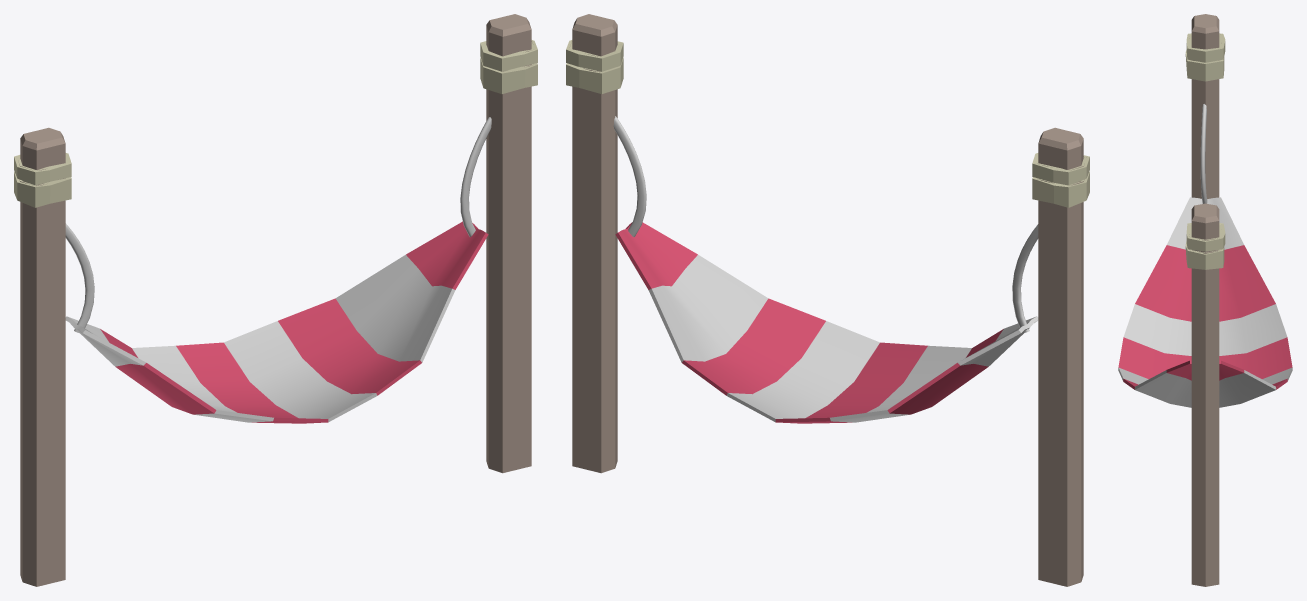
Rendered from Hangmat.fbx.
The picture shows the model from 3 angles, left to right: view 1: azimuth 30°, elevation 25°; view 2: azimuth 150°, elevation 25°; view 3: azimuth 270°, elevation 25°; orthographic projection. The views are drawn at different scales.
Parts seen in each view (by area): view 1: HangMat; view 2: HangMat; view 3: HangMat.
Boxes of the visible parts, bbox=[...] form: HangMat: bbox=[14, 14, 537, 586]; HangMat: bbox=[566, 14, 1089, 586]; HangMat: bbox=[1118, 14, 1292, 586].
Bounding box in the file's own units: 2.42 × 1.97 × 0.8483.
